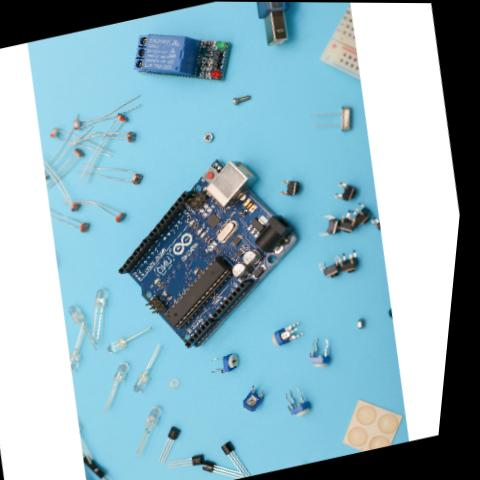Arduino-Uno: (94, 139, 333, 364)
